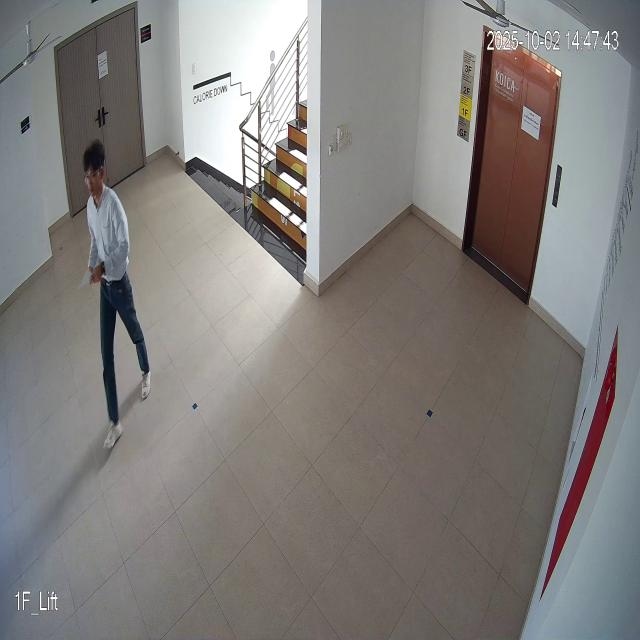face: (81, 135, 111, 204)
